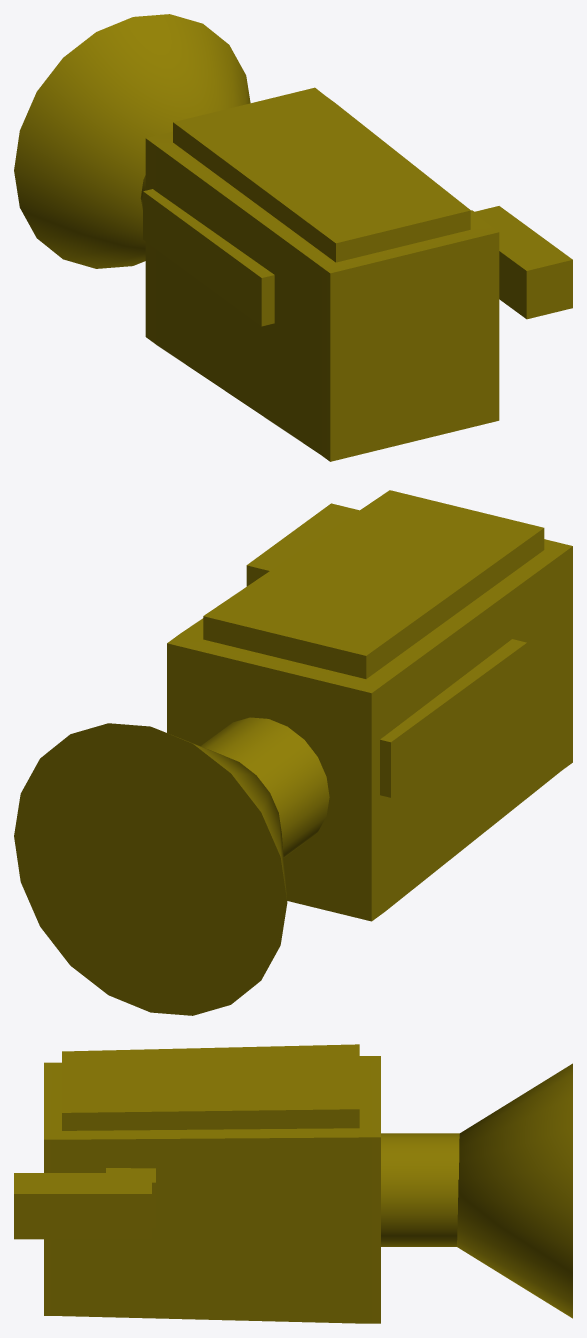
The model's file is CAM_Yllw.fbx.
3 renders of one model, top to bottom at view 1: azimuth 30°, elevation 25°; view 2: azimuth 150°, elevation 25°; view 3: azimuth 270°, elevation 25°, orthographic. The views are drawn at different scales.
Visible parts, largest first — view 1: polySurface1; view 2: polySurface1; view 3: polySurface1.
Part boxes in pixels (x1,y1,x2,y2): polySurface1: [14, 14, 572, 461]; polySurface1: [14, 490, 572, 1015]; polySurface1: [14, 1044, 572, 1323].
Bounding box in the file's own units: 56.33 × 51.5 × 112.
